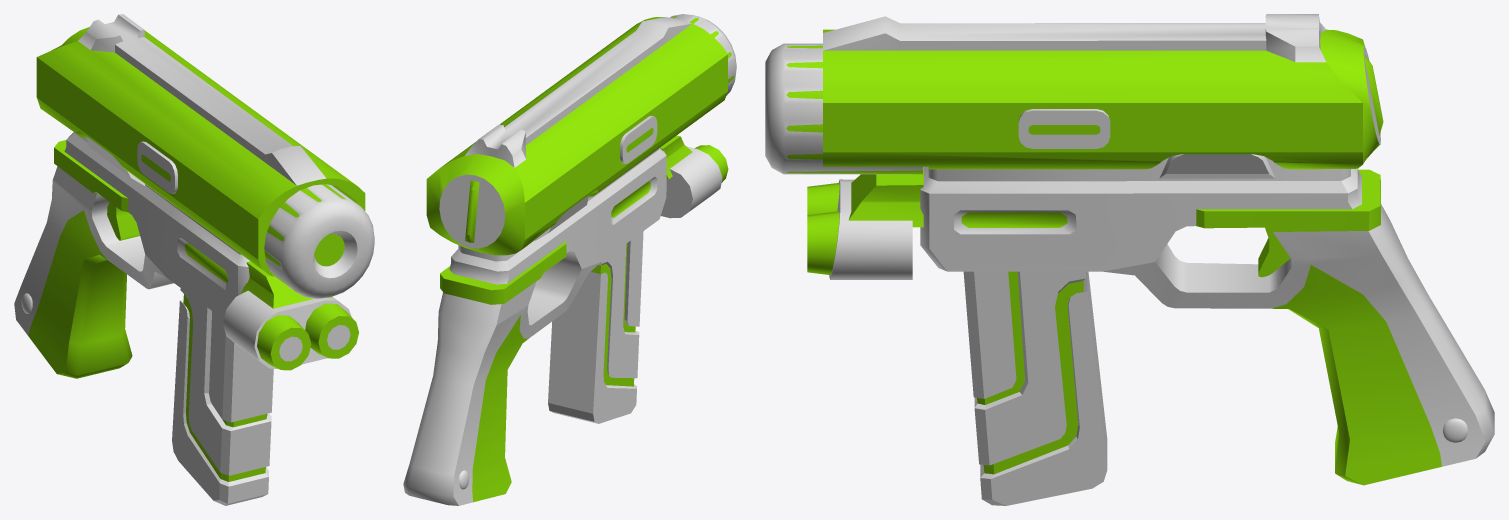
Rendered from Pistol D Mat.fbx.
3 views of the same model, side by side, from view 1: azimuth 30°, elevation 25°; view 2: azimuth 150°, elevation 25°; view 3: azimuth 270°, elevation 25° (orthographic). The views are drawn at different scales.
Visible parts, largest first — view 1: Pistol D Mat; view 2: Pistol D Mat; view 3: Pistol D Mat.
Boxes of the visible parts, x1=… form: Pistol D Mat: x1=14, y1=14, x2=374, y2=505; Pistol D Mat: x1=403, y1=14, x2=736, y2=505; Pistol D Mat: x1=765, y1=14, x2=1494, y2=505.
Size of the model in its own units: 0.1861 by 0.6074 by 0.8517.
